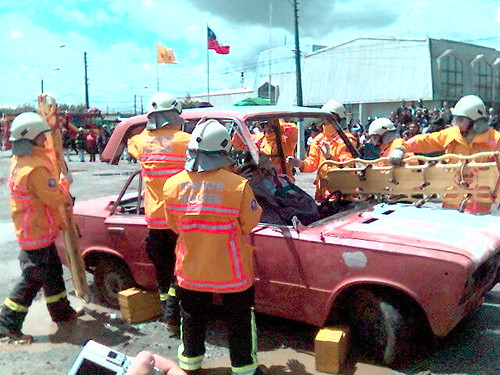helmet: (186, 117, 228, 147), (455, 86, 487, 121), (7, 108, 44, 136), (369, 114, 396, 141), (145, 88, 180, 108), (324, 95, 342, 113)
